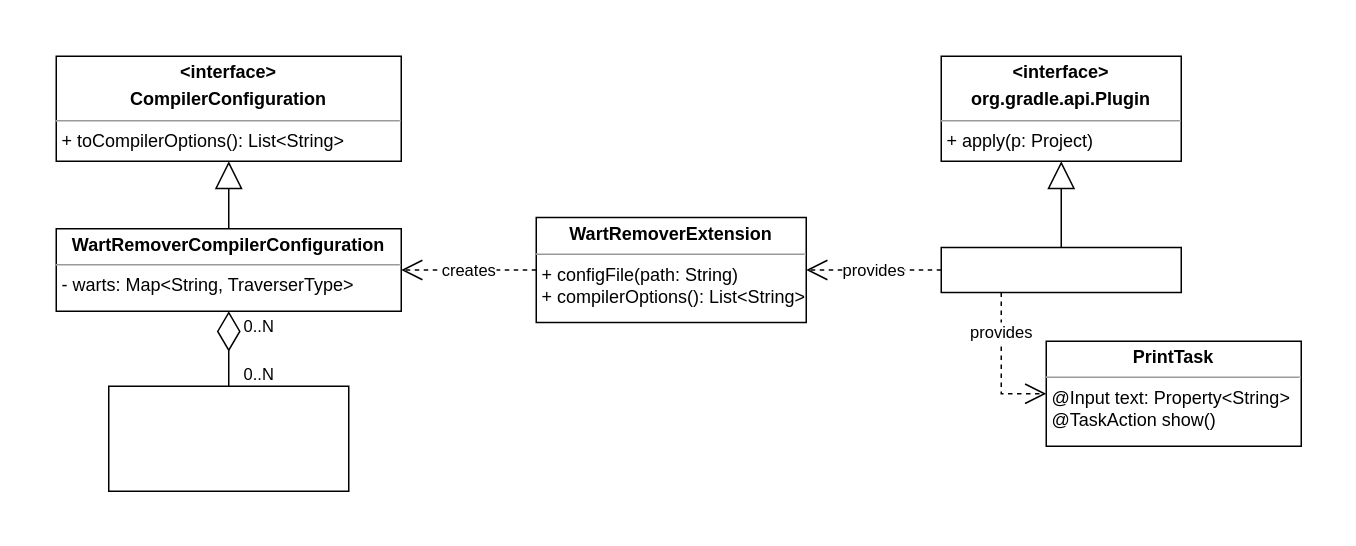
Image size: 1356x546. Some labels were removed from this diagram. Here are the shapes that lost their labels. From the top down, the centre of each, then its label:
(1060,269): WartRemoverPlugin
(228,438): <enum> TraverserType Error, Warning, Ignore
